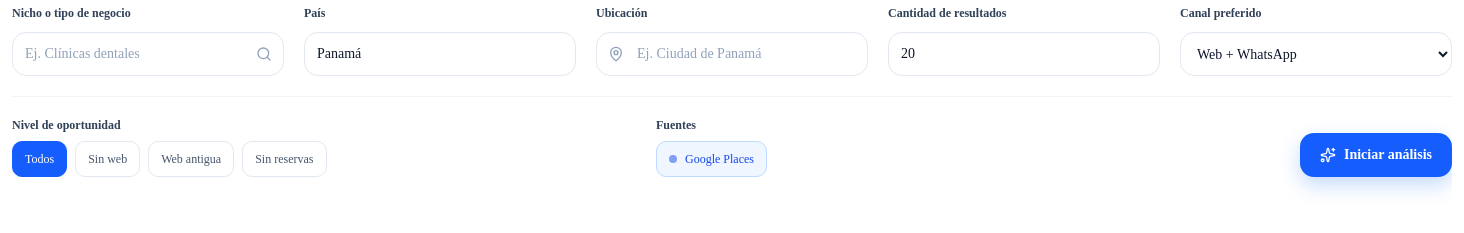
Test case: formulario de búsqueda › valida el límite máximo de resultados
Type "Dentistas" into the field labelled "Nicho o tipo de negocio" at (148, 54), box 12,32 -> 284,76
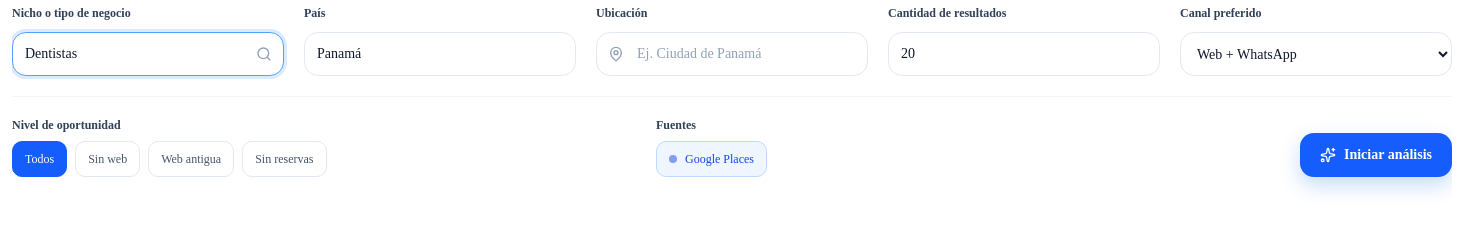
Type "Ciudad de Panamá" into the field labelled "Ubicación" at (732, 54), box 596,32 -> 868,76
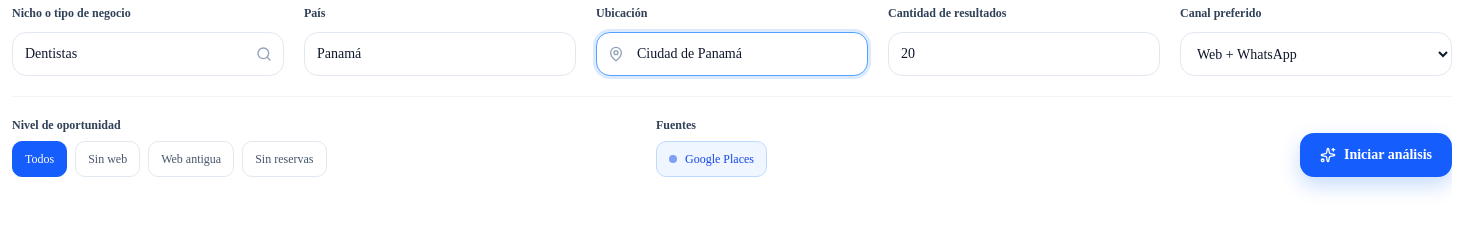
Replace the text in the number field labelled "Cantidad de resultados" with "21" at (1024, 54), box 888,32 -> 1160,76
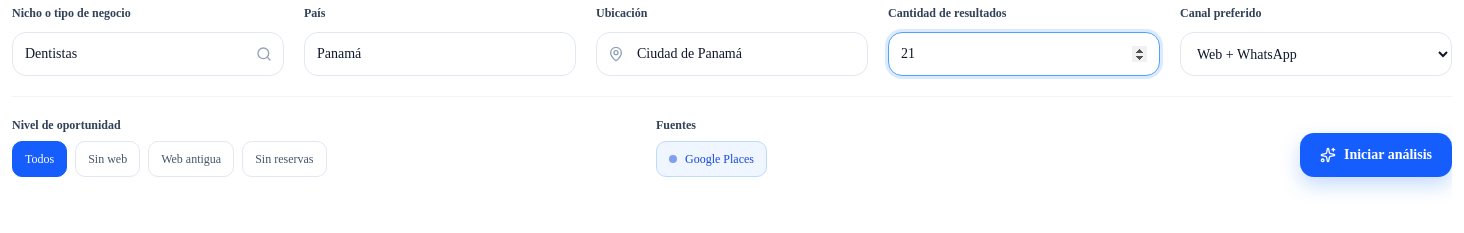
Click the button "Iniciar análisis" at (1376, 155), box 1300,133 -> 1452,177
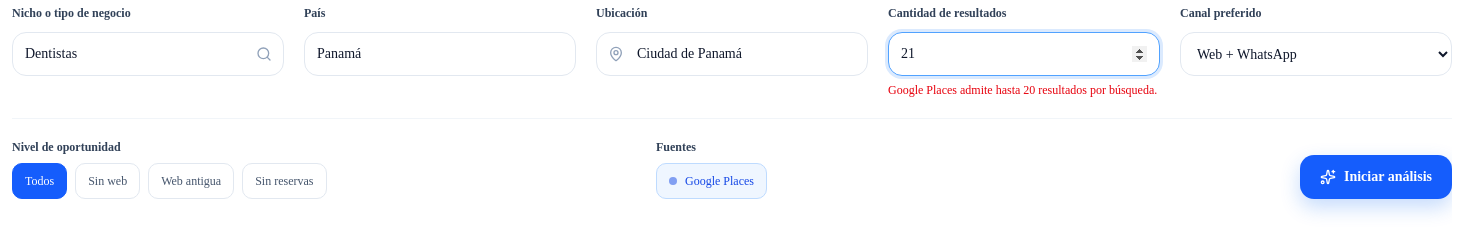
Expected: the text "Google Places admite hasta 20 resultados por búsqueda." is shown, 888,82 -> 1160,98
